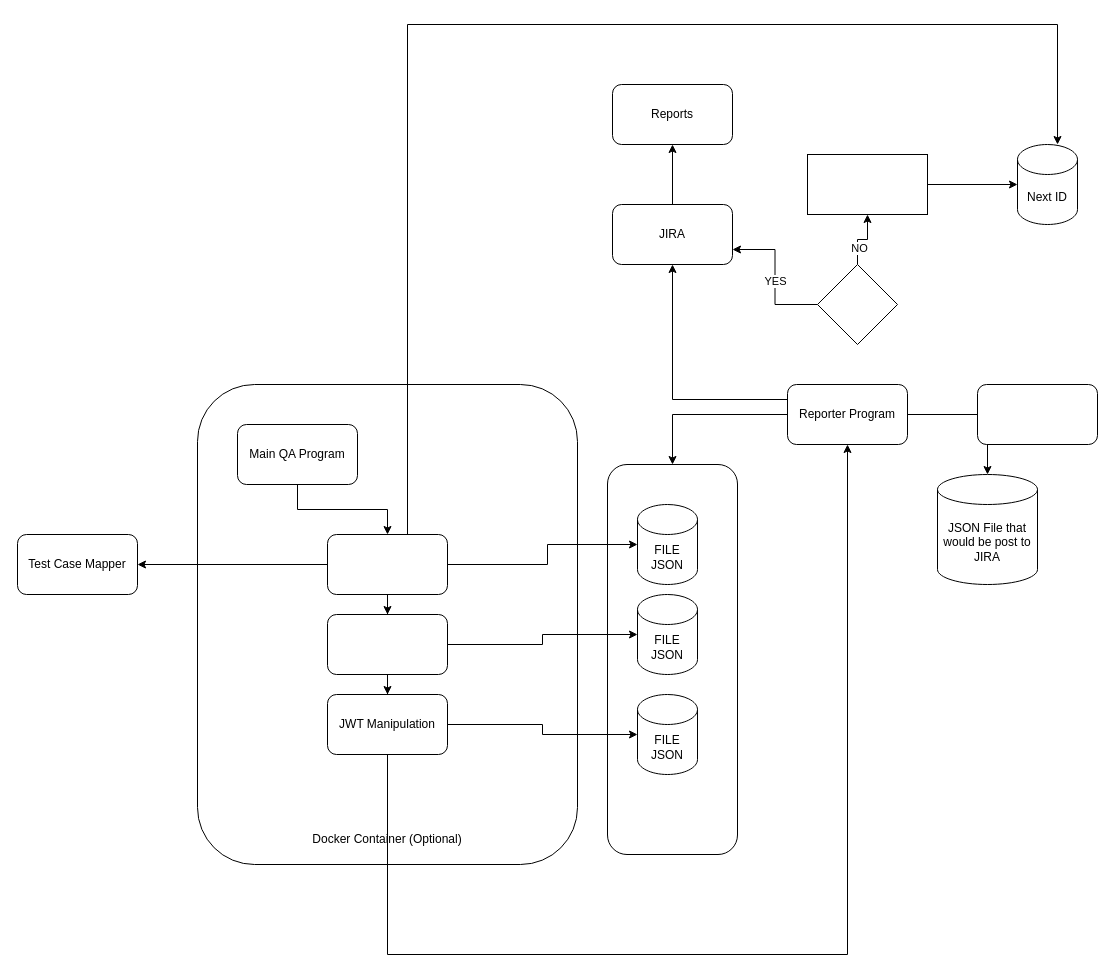
Image size: 1115x980. Some labels were removed from this diagram. The centre of each missing label's shape, as x and y in pixels:
API Fuzzer: (x=387, y=644)
Create Test: (x=867, y=184)
Spec Analyer: (x=387, y=564)
Test Case Exists: (x=857, y=304)
Test Cases: (x=1037, y=414)
